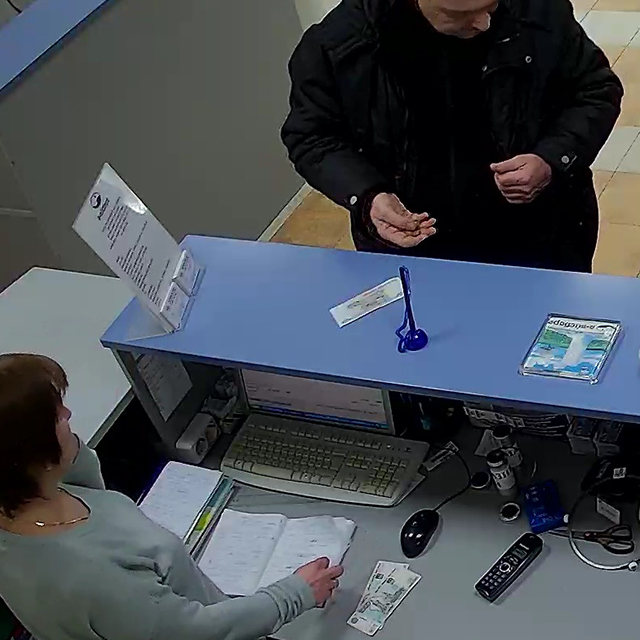banknotes: (349, 560, 420, 634), (329, 275, 404, 327)
